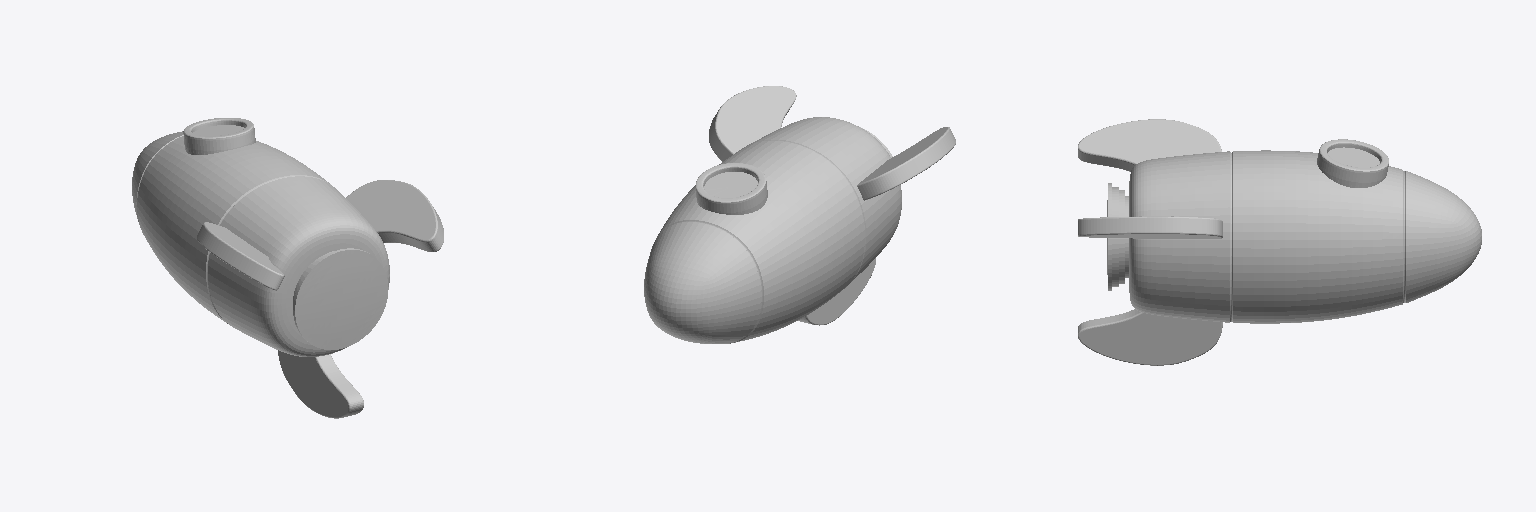
File: rotrocketypositive.obj
The picture shows the model from 3 angles: view 1: azimuth 30°, elevation 25°; view 2: azimuth 150°, elevation 25°; view 3: azimuth 270°, elevation 25°; orthographic projection.
Parts seen in each view (by area): view 1: BezierCircle; view 2: BezierCircle; view 3: BezierCircle.
Boxes of the visible parts, x1,y1,x2,y2 form: BezierCircle: [132, 118, 443, 418]; BezierCircle: [644, 86, 955, 343]; BezierCircle: [1078, 119, 1481, 365].
Bounding box in the file's own units: 2.96 × 2.81 × 4.85.